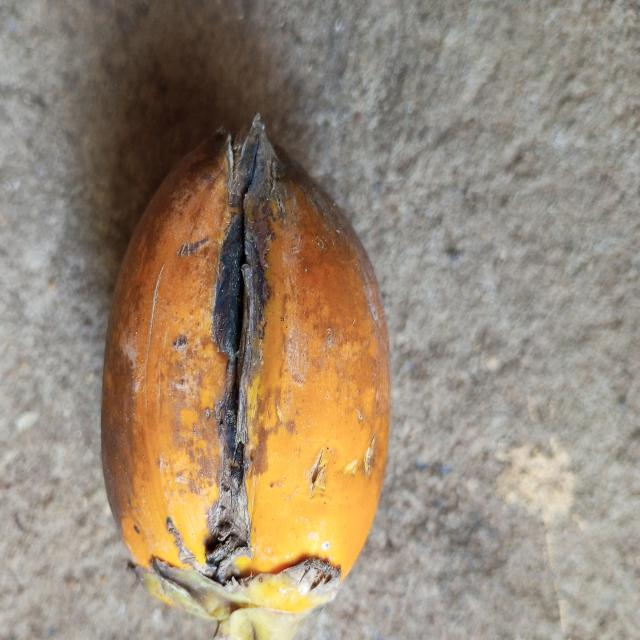damaged: (102, 115, 390, 640)
